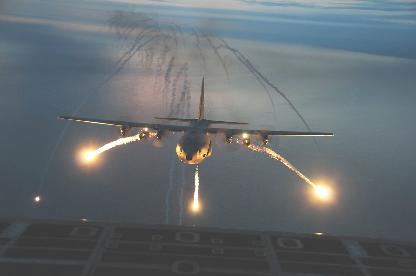Be200: (59, 76, 335, 164)
